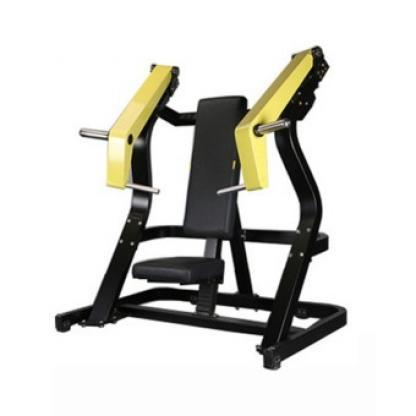Chest Press machine: (48, 43, 357, 375)
